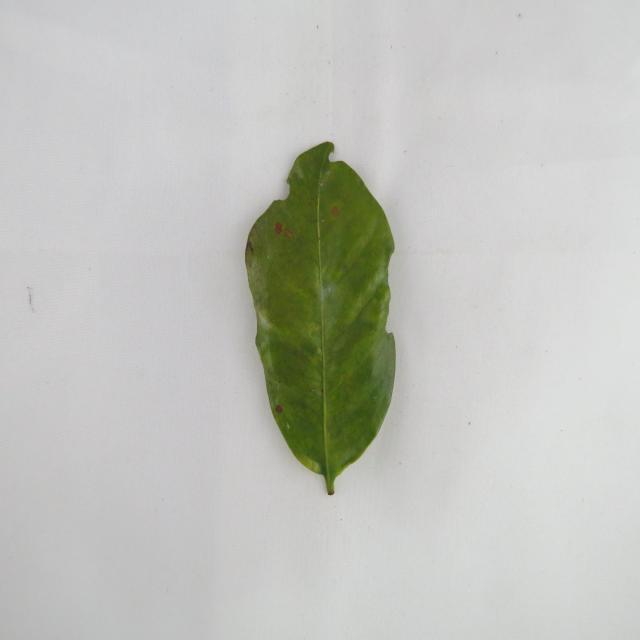DeficienciaNutricional-Boro: (245, 142, 395, 495)
